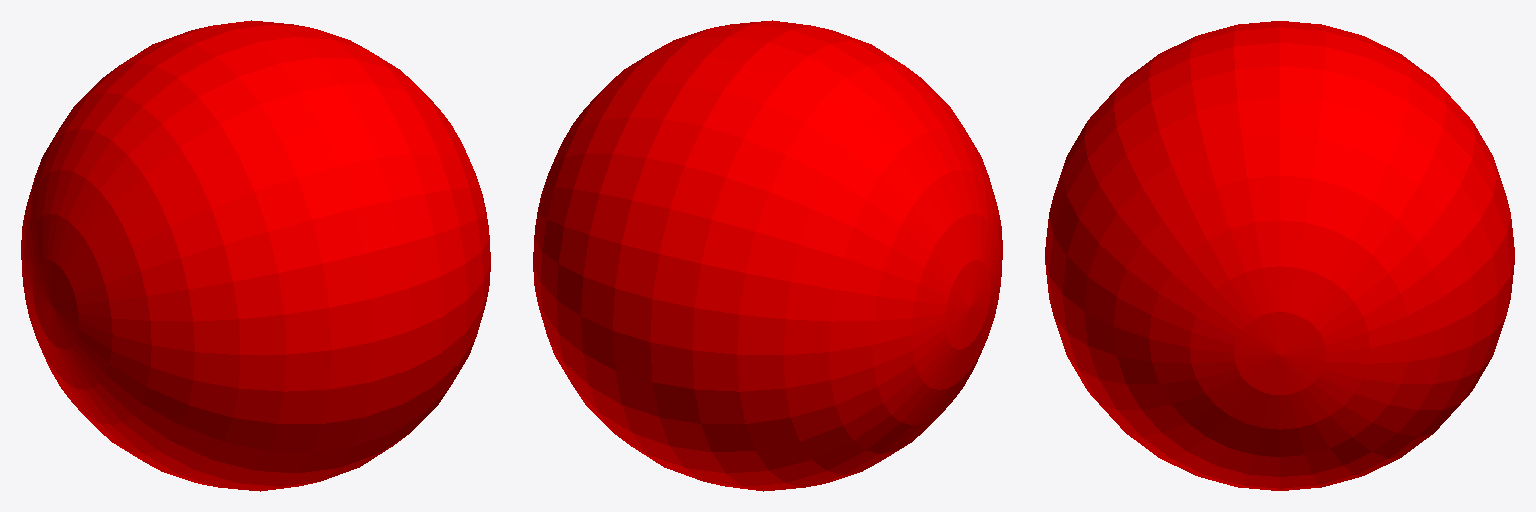
robot.urdf — partnet_c5d13a109a61060c178e7d331e641179:
<?xml version="1.0" ?>
<robot name="partnet_c5d13a109a61060c178e7d331e641179">
	<link name="base"/>
	<link name="link_0">
		<visual name="door_frame-5">
			<origin xyz="0.7663123617888119 -0.4711569999999998 -0.39380938953471023"/>
			<geometry>
				<mesh filename="textured_objs/original-1.obj"/>
			</geometry>
		</visual>
		<visual name="glass-6">
			<origin xyz="0.7663123617888119 -0.4711569999999998 -0.39380938953471023"/>
			<geometry>
				<mesh filename="textured_objs/original-6.obj"/>
			</geometry>
		</visual>
		<visual name="glass-6">
			<origin xyz="0.7663123617888119 -0.4711569999999998 -0.39380938953471023"/>
			<geometry>
				<mesh filename="textured_objs/original-9.obj"/>
			</geometry>
		</visual>
		<visual name="glass-6">
			<origin xyz="0.7663123617888119 -0.4711569999999998 -0.39380938953471023"/>
			<geometry>
				<mesh filename="textured_objs/original-17.obj"/>
			</geometry>
		</visual>
		<visual name="glass-6">
			<origin xyz="0.7663123617888119 -0.4711569999999998 -0.39380938953471023"/>
			<geometry>
				<mesh filename="textured_objs/original-10.obj"/>
			</geometry>
		</visual>
		<visual name="glass-6">
			<origin xyz="0.7663123617888119 -0.4711569999999998 -0.39380938953471023"/>
			<geometry>
				<mesh filename="textured_objs/original-11.obj"/>
			</geometry>
		</visual>
		<visual name="glass-6">
			<origin xyz="0.7663123617888119 -0.4711569999999998 -0.39380938953471023"/>
			<geometry>
				<mesh filename="textured_objs/original-12.obj"/>
			</geometry>
		</visual>
		<visual name="glass-6">
			<origin xyz="0.7663123617888119 -0.4711569999999998 -0.39380938953471023"/>
			<geometry>
				<mesh filename="textured_objs/original-13.obj"/>
			</geometry>
		</visual>
		<visual name="glass-6">
			<origin xyz="0.7663123617888119 -0.4711569999999998 -0.39380938953471023"/>
			<geometry>
				<mesh filename="textured_objs/original-14.obj"/>
			</geometry>
		</visual>
		<visual name="glass-6">
			<origin xyz="0.7663123617888119 -0.4711569999999998 -0.39380938953471023"/>
			<geometry>
				<mesh filename="textured_objs/original-15.obj"/>
			</geometry>
		</visual>
		<visual name="glass-6">
			<origin xyz="0.7663123617888119 -0.4711569999999998 -0.39380938953471023"/>
			<geometry>
				<mesh filename="textured_objs/original-16.obj"/>
			</geometry>
		</visual>
		<visual name="glass-6">
			<origin xyz="0.7663123617888119 -0.4711569999999998 -0.39380938953471023"/>
			<geometry>
				<mesh filename="textured_objs/original-3.obj"/>
			</geometry>
		</visual>
		<visual name="handle-7">
			<origin xyz="0.7663123617888119 -0.4711569999999998 -0.39380938953471023"/>
			<geometry>
				<mesh filename="textured_objs/original-19.obj"/>
			</geometry>
		</visual>
		<visual name="handle-7">
			<origin xyz="0.7663123617888119 -0.4711569999999998 -0.39380938953471023"/>
			<geometry>
				<mesh filename="textured_objs/original-21.obj"/>
			</geometry>
		</visual>
		<visual name="handle-7">
			<origin xyz="0.7663123617888119 -0.4711569999999998 -0.39380938953471023"/>
			<geometry>
				<mesh filename="textured_objs/original-20.obj"/>
			</geometry>
		</visual>
		<collision>
			<origin xyz="0.7663123617888119 -0.4711569999999998 -0.39380938953471023"/>
			<geometry>
				<mesh filename="textured_objs/original-1.obj"/>
			</geometry>
		</collision>
		<collision>
			<origin xyz="0.7663123617888119 -0.4711569999999998 -0.39380938953471023"/>
			<geometry>
				<mesh filename="textured_objs/original-6.obj"/>
			</geometry>
		</collision>
		<collision>
			<origin xyz="0.7663123617888119 -0.4711569999999998 -0.39380938953471023"/>
			<geometry>
				<mesh filename="textured_objs/original-9.obj"/>
			</geometry>
		</collision>
		<collision>
			<origin xyz="0.7663123617888119 -0.4711569999999998 -0.39380938953471023"/>
			<geometry>
				<mesh filename="textured_objs/original-17.obj"/>
			</geometry>
		</collision>
		<collision>
			<origin xyz="0.7663123617888119 -0.4711569999999998 -0.39380938953471023"/>
			<geometry>
				<mesh filename="textured_objs/original-10.obj"/>
			</geometry>
		</collision>
		<collision>
			<origin xyz="0.7663123617888119 -0.4711569999999998 -0.39380938953471023"/>
			<geometry>
				<mesh filename="textured_objs/original-11.obj"/>
			</geometry>
		</collision>
		<collision>
			<origin xyz="0.7663123617888119 -0.4711569999999998 -0.39380938953471023"/>
			<geometry>
				<mesh filename="textured_objs/original-12.obj"/>
			</geometry>
		</collision>
		<collision>
			<origin xyz="0.7663123617888119 -0.4711569999999998 -0.39380938953471023"/>
			<geometry>
				<mesh filename="textured_objs/original-13.obj"/>
			</geometry>
		</collision>
		<collision>
			<origin xyz="0.7663123617888119 -0.4711569999999998 -0.39380938953471023"/>
			<geometry>
				<mesh filename="textured_objs/original-14.obj"/>
			</geometry>
		</collision>
		<collision>
			<origin xyz="0.7663123617888119 -0.4711569999999998 -0.39380938953471023"/>
			<geometry>
				<mesh filename="textured_objs/original-15.obj"/>
			</geometry>
		</collision>
		<collision>
			<origin xyz="0.7663123617888119 -0.4711569999999998 -0.39380938953471023"/>
			<geometry>
				<mesh filename="textured_objs/original-16.obj"/>
			</geometry>
		</collision>
		<collision>
			<origin xyz="0.7663123617888119 -0.4711569999999998 -0.39380938953471023"/>
			<geometry>
				<mesh filename="textured_objs/original-3.obj"/>
			</geometry>
		</collision>
		<collision>
			<origin xyz="0.7663123617888119 -0.4711569999999998 -0.39380938953471023"/>
			<geometry>
				<mesh filename="textured_objs/original-19.obj"/>
			</geometry>
		</collision>
		<collision>
			<origin xyz="0.7663123617888119 -0.4711569999999998 -0.39380938953471023"/>
			<geometry>
				<mesh filename="textured_objs/original-21.obj"/>
			</geometry>
		</collision>
		<collision>
			<origin xyz="0.7663123617888119 -0.4711569999999998 -0.39380938953471023"/>
			<geometry>
				<mesh filename="textured_objs/original-20.obj"/>
			</geometry>
		</collision>
	</link>
	<joint name="joint_0" type="revolute">
		<origin xyz="-0.7663123617888119 0.4711569999999998 0.39380938953471023"/>
		<axis xyz="0 -1 0"/>
		<child link="link_0"/>
		<parent link="link_1"/>
		<limit lower="-0.0" upper="1.5707963267948966"/>
	</joint>
	<link name="link_1">
		<visual name="frame-2">
			<origin xyz="0 0 0"/>
			<geometry>
				<mesh filename="textured_objs/original-2.obj"/>
			</geometry>
		</visual>
		<visual name="frame-2">
			<origin xyz="0 0 0"/>
			<geometry>
				<mesh filename="textured_objs/new-11.obj"/>
			</geometry>
		</visual>
		<visual name="frame-2">
			<origin xyz="0 0 0"/>
			<geometry>
				<mesh filename="textured_objs/original-7.obj"/>
			</geometry>
		</visual>
		<visual name="frame-2">
			<origin xyz="0 0 0"/>
			<geometry>
				<mesh filename="textured_objs/original-4.obj"/>
			</geometry>
		</visual>
		<collision>
			<origin xyz="0 0 0"/>
			<geometry>
				<mesh filename="textured_objs/original-2.obj"/>
			</geometry>
		</collision>
		<collision>
			<origin xyz="0 0 0"/>
			<geometry>
				<mesh filename="textured_objs/new-11.obj"/>
			</geometry>
		</collision>
		<collision>
			<origin xyz="0 0 0"/>
			<geometry>
				<mesh filename="textured_objs/original-7.obj"/>
			</geometry>
		</collision>
		<collision>
			<origin xyz="0 0 0"/>
			<geometry>
				<mesh filename="textured_objs/original-4.obj"/>
			</geometry>
		</collision>
	</link>
	<joint name="joint_1" type="fixed">
		<origin rpy="1.570796326794897 0 -1.570796326794897" xyz="0 0 0"/>
		<child link="link_1"/>
		<parent link="base"/>
	</joint>

	<link name="debug_red_dot">
	  <visual>
		<origin xyz="0 0 0"/>
		<geometry>
		  <sphere radius="0.02"/>
		</geometry>
		<material name="red">
		  <color rgba="1 0 0 0"/>
		</material>
	  </visual>
	</link>
	<joint name="debug_dot_joint" type="fixed">
	  <parent link="link_1"/>
	  <child link="debug_red_dot"/>
	  <origin xyz="-0.7663123617888119 0.4711569999999998 0.39380938953471023"/>
<!--	  <origin xyz="0 0 0"/>-->
	</joint>
</robot>

--- Render facts (derived) ---
The picture shows the robot from 3 angles, left to right: view 1: azimuth 30°, elevation 25°; view 2: azimuth 150°, elevation 25°; view 3: azimuth 270°, elevation 25°; orthographic projection.
Model partnet_c5d13a109a61060c178e7d331e641179 with 4 links and 3 joints (1 revolute, 2 fixed), rooted at base, posed every joint at zero.
Links seen in each view (by area): view 1: debug_red_dot; view 2: debug_red_dot; view 3: debug_red_dot.
Boxes of the visible links, <box> form: debug_red_dot: <box>21,20,490,491</box>; debug_red_dot: <box>533,20,1002,491</box>; debug_red_dot: <box>1045,21,1514,490</box>.
Size in the robot's own frame: 0.04 by 0.04 by 0.04 metres.
0 mesh visuals loaded from 19 distinct referenced files (none loaded); not drawn: 19 (reference not matched to a file when rendering).